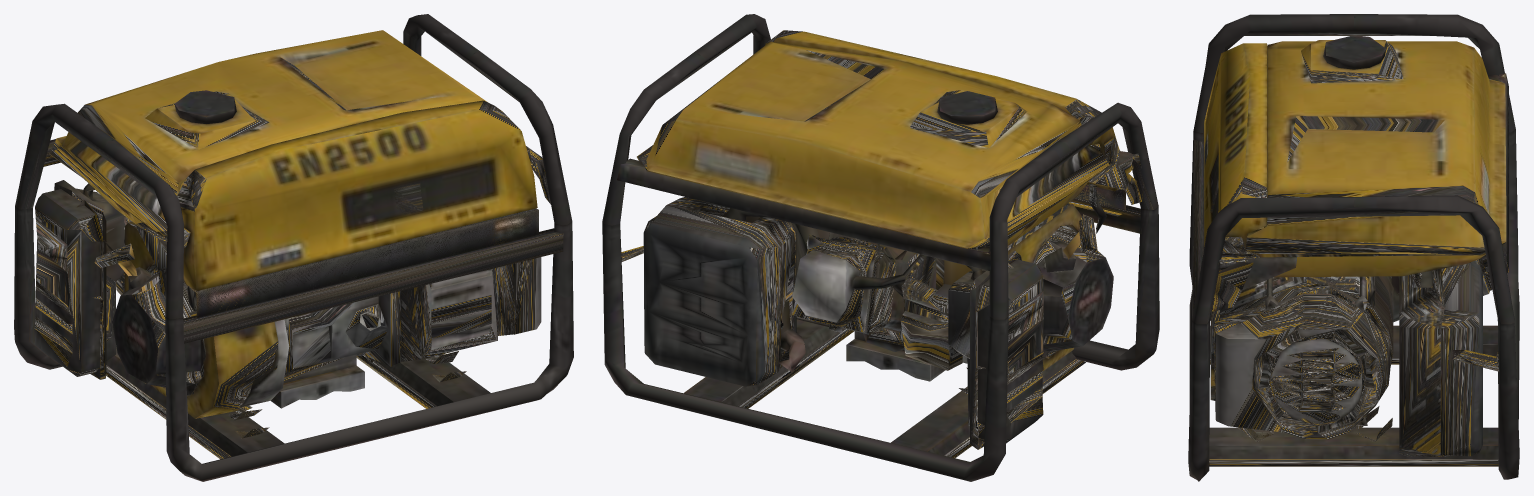
The model's file is portable_generator.glb.
3 renders of one model, left to right at view 1: azimuth 30°, elevation 25°; view 2: azimuth 150°, elevation 25°; view 3: azimuth 270°, elevation 25°, orthographic.
Parts seen in each view (by area): view 1: portable_generator; view 2: portable_generator; view 3: portable_generator.
Boxes of the visible parts, x1,y1,x2,y2 form: portable_generator: [14, 14, 573, 481]; portable_generator: [602, 14, 1159, 481]; portable_generator: [1188, 14, 1519, 481].
Size of the model in its own units: 0.8166 by 0.5752 by 0.564.
2 materials, 2 textured.
